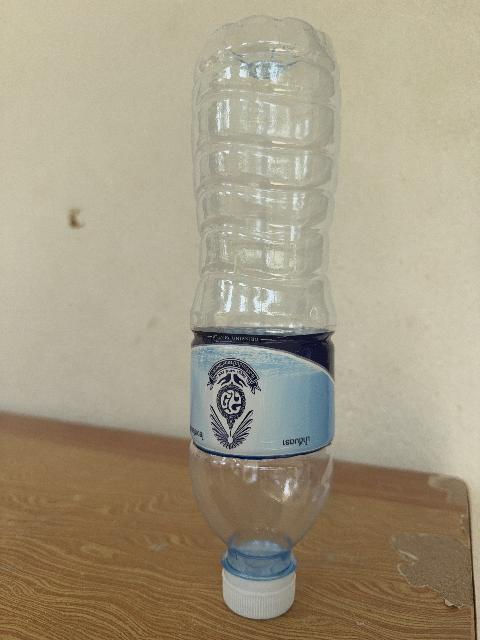bottle: (190, 16, 340, 618)
